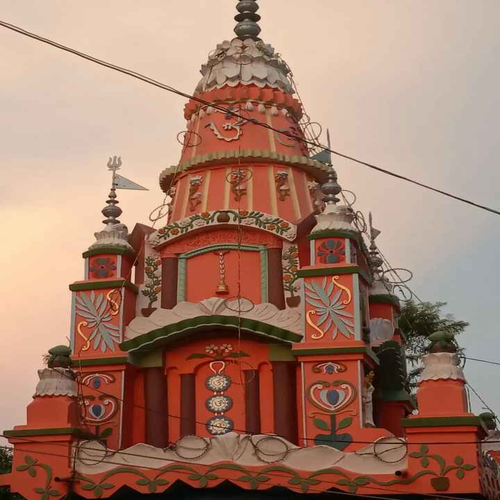Temple: (51, 11, 467, 474)
